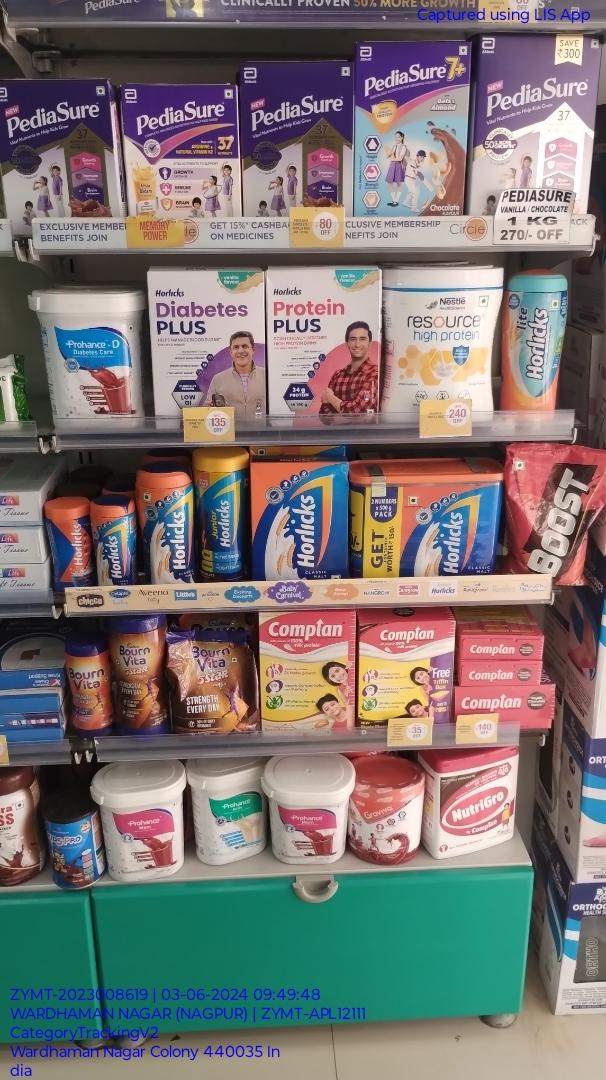BOURN_VITA_FIVE_STAR_MAGIC_500_G_JAR: (114, 616, 166, 735)
BOURN_VITA_FIVE_STAR_MAGIC_500_G_POUCH: (169, 628, 259, 736)
HORLICKS_JUNIOR_VANILLA_500_GM_JAR: (197, 453, 244, 582)
HORLICKS_LITE_REGULAR_MALT_500_GM_JAR: (501, 266, 565, 435)
HORLICK_CLASSIC_MALT_200_G_JAR: (91, 497, 134, 588)
HORLICK_CLASSIC_MALT_500_G_JAR: (142, 469, 193, 585)
HORLICK_CLASSIC_MALT_500_G_PACK: (250, 459, 344, 581)
HORLICK_MALT_1_KG_CONTAINER: (348, 472, 503, 581)
PEDIASURE_CHOCOLATE_500_G_PACK: (0, 77, 120, 244), (244, 57, 353, 224)
